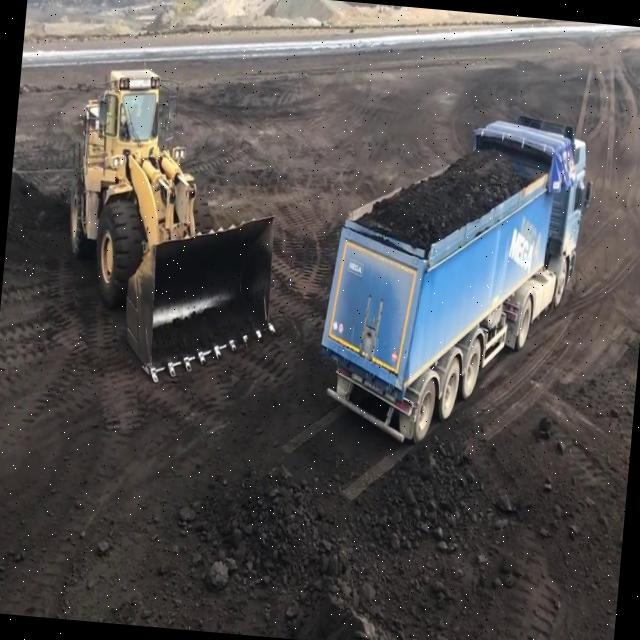Dump Truck: (307, 97, 598, 460)
Loader: (51, 58, 298, 393)
